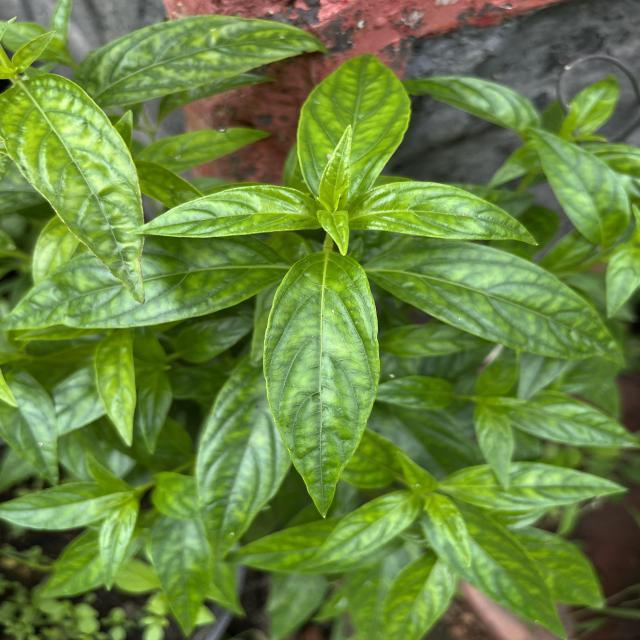Andrographis paniculata: (363, 234, 628, 370), (0, 72, 147, 304), (260, 249, 382, 520), (71, 14, 326, 110), (195, 356, 294, 560), (431, 500, 568, 640), (294, 50, 413, 202), (347, 180, 543, 248), (528, 127, 630, 250), (127, 184, 326, 239), (438, 460, 630, 512), (306, 490, 417, 568), (509, 388, 640, 450), (406, 78, 538, 136), (152, 518, 215, 639), (384, 553, 459, 640), (94, 334, 141, 451), (0, 480, 111, 529)
